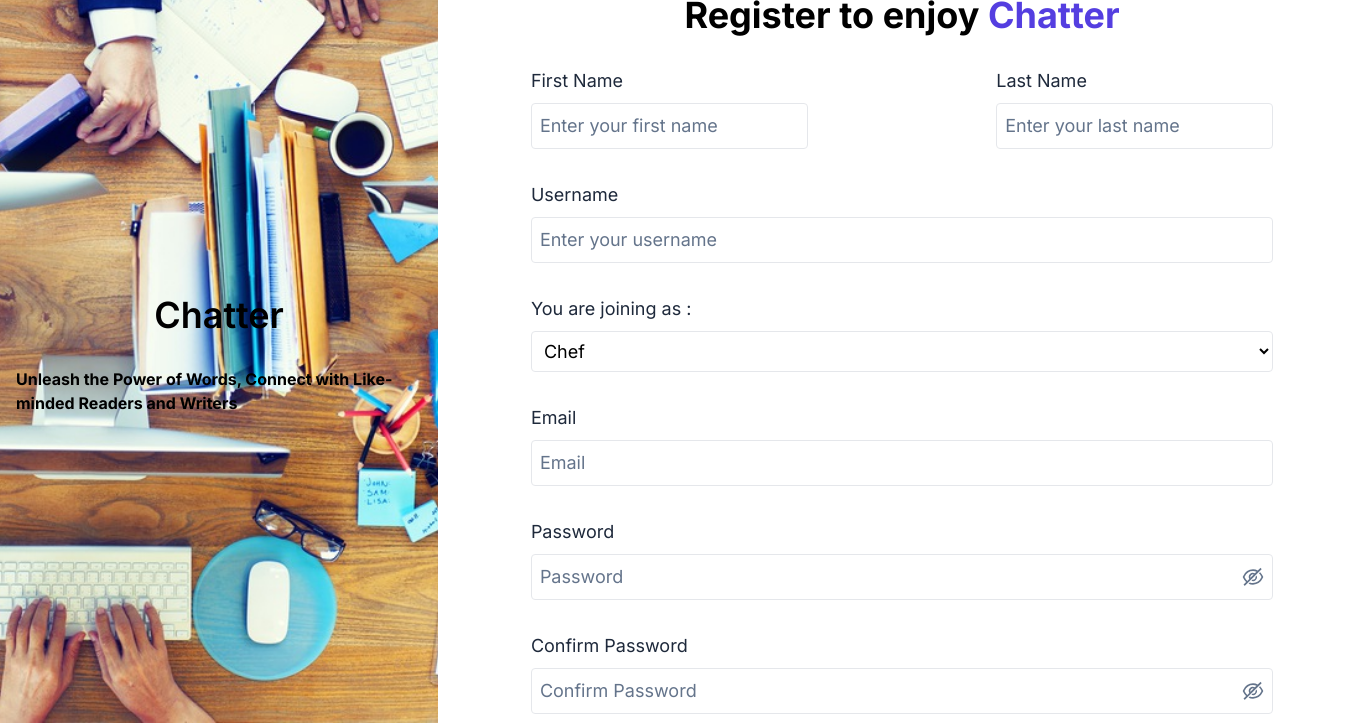
Scenario: Sign Up Page › signup functionality › signup with invalid password
In the password field with placeholder "Password": (902, 577) [531,554,1273,600], type "test"
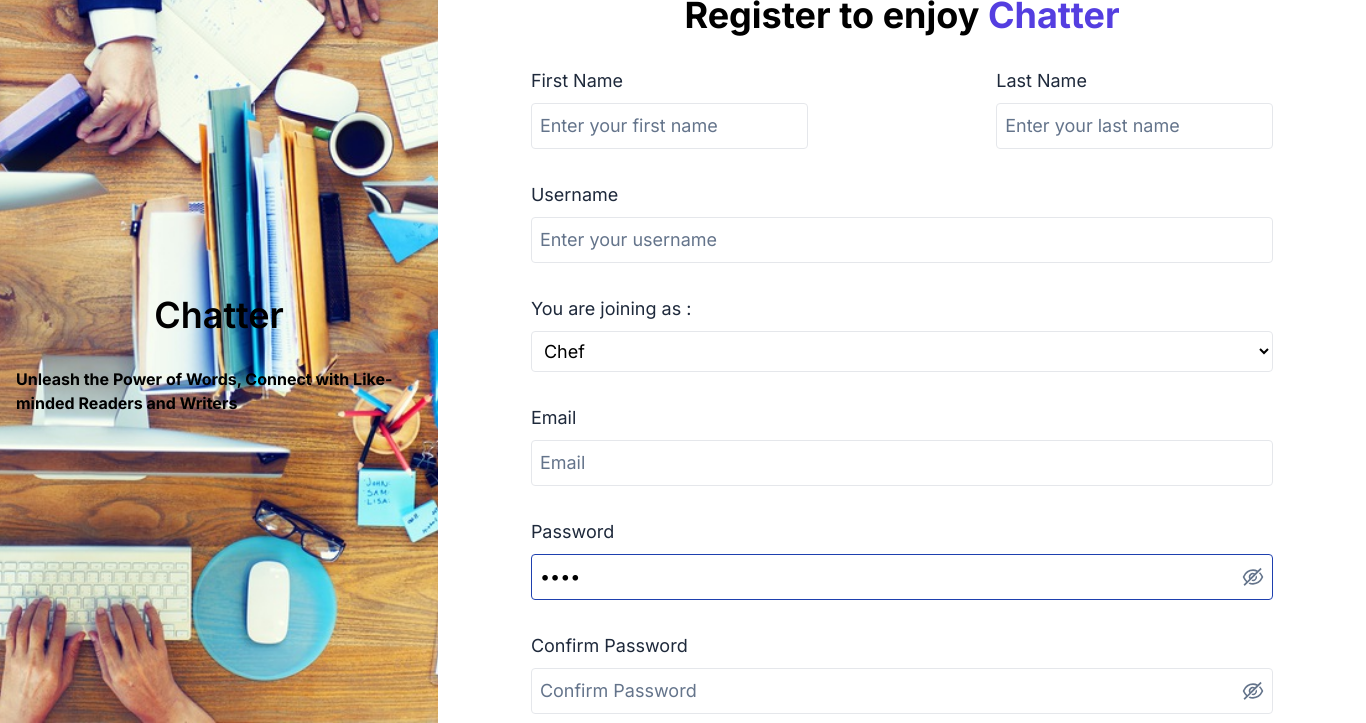
Scroll
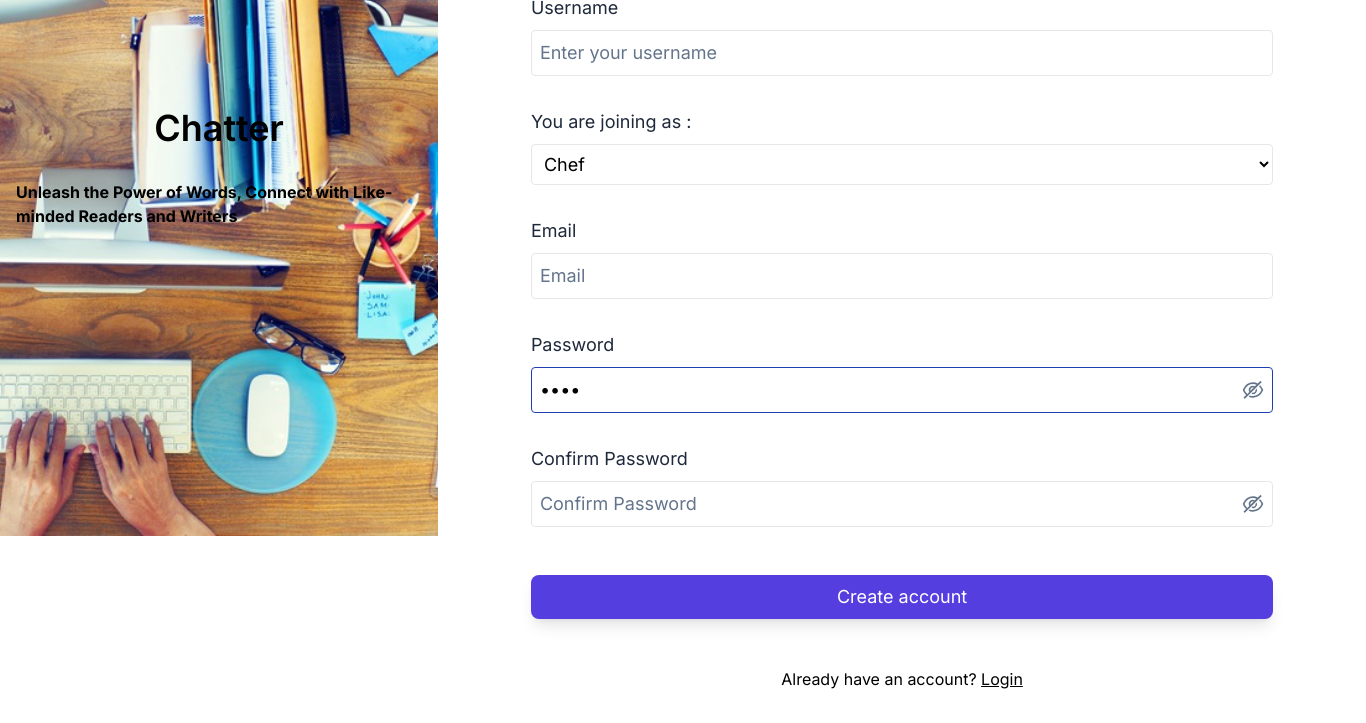
Click the button "Create account": (902, 597) [531,575,1273,619]
(page scrolled)
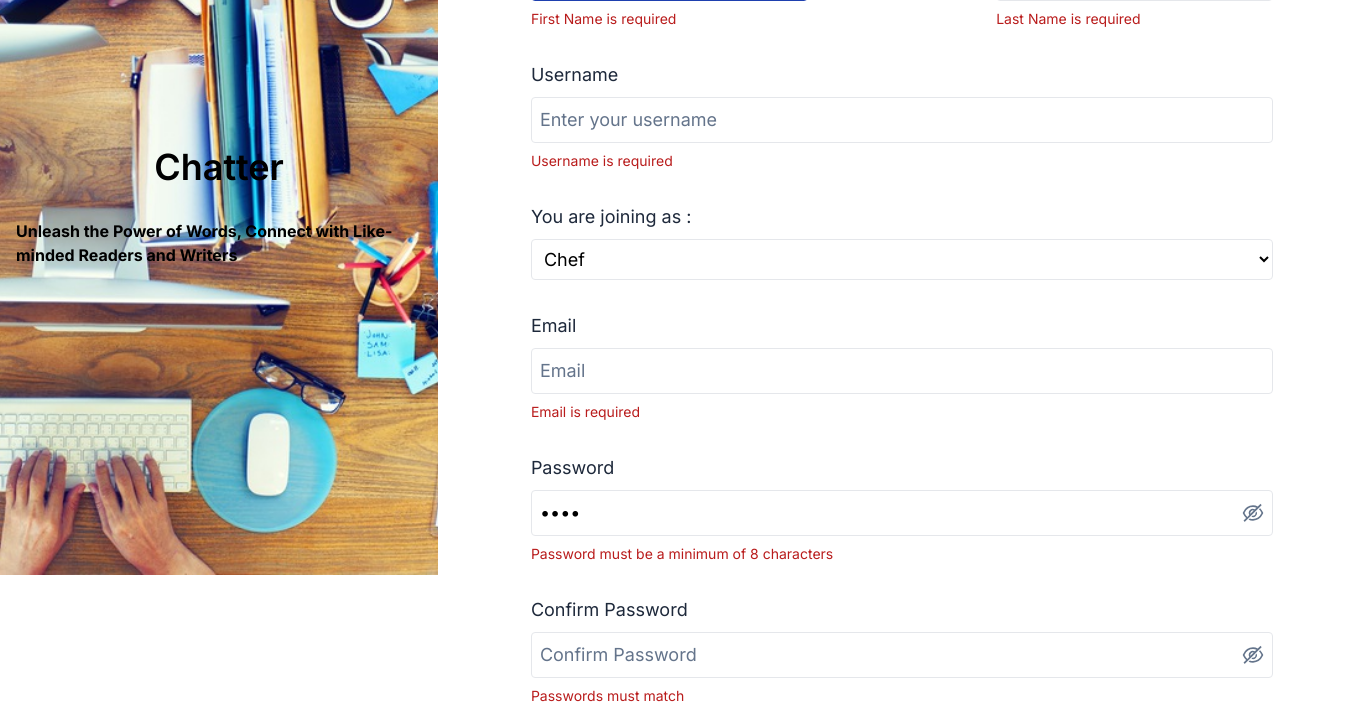
Expected: the message "First Name is required" is shown, [531,10,676,27]
